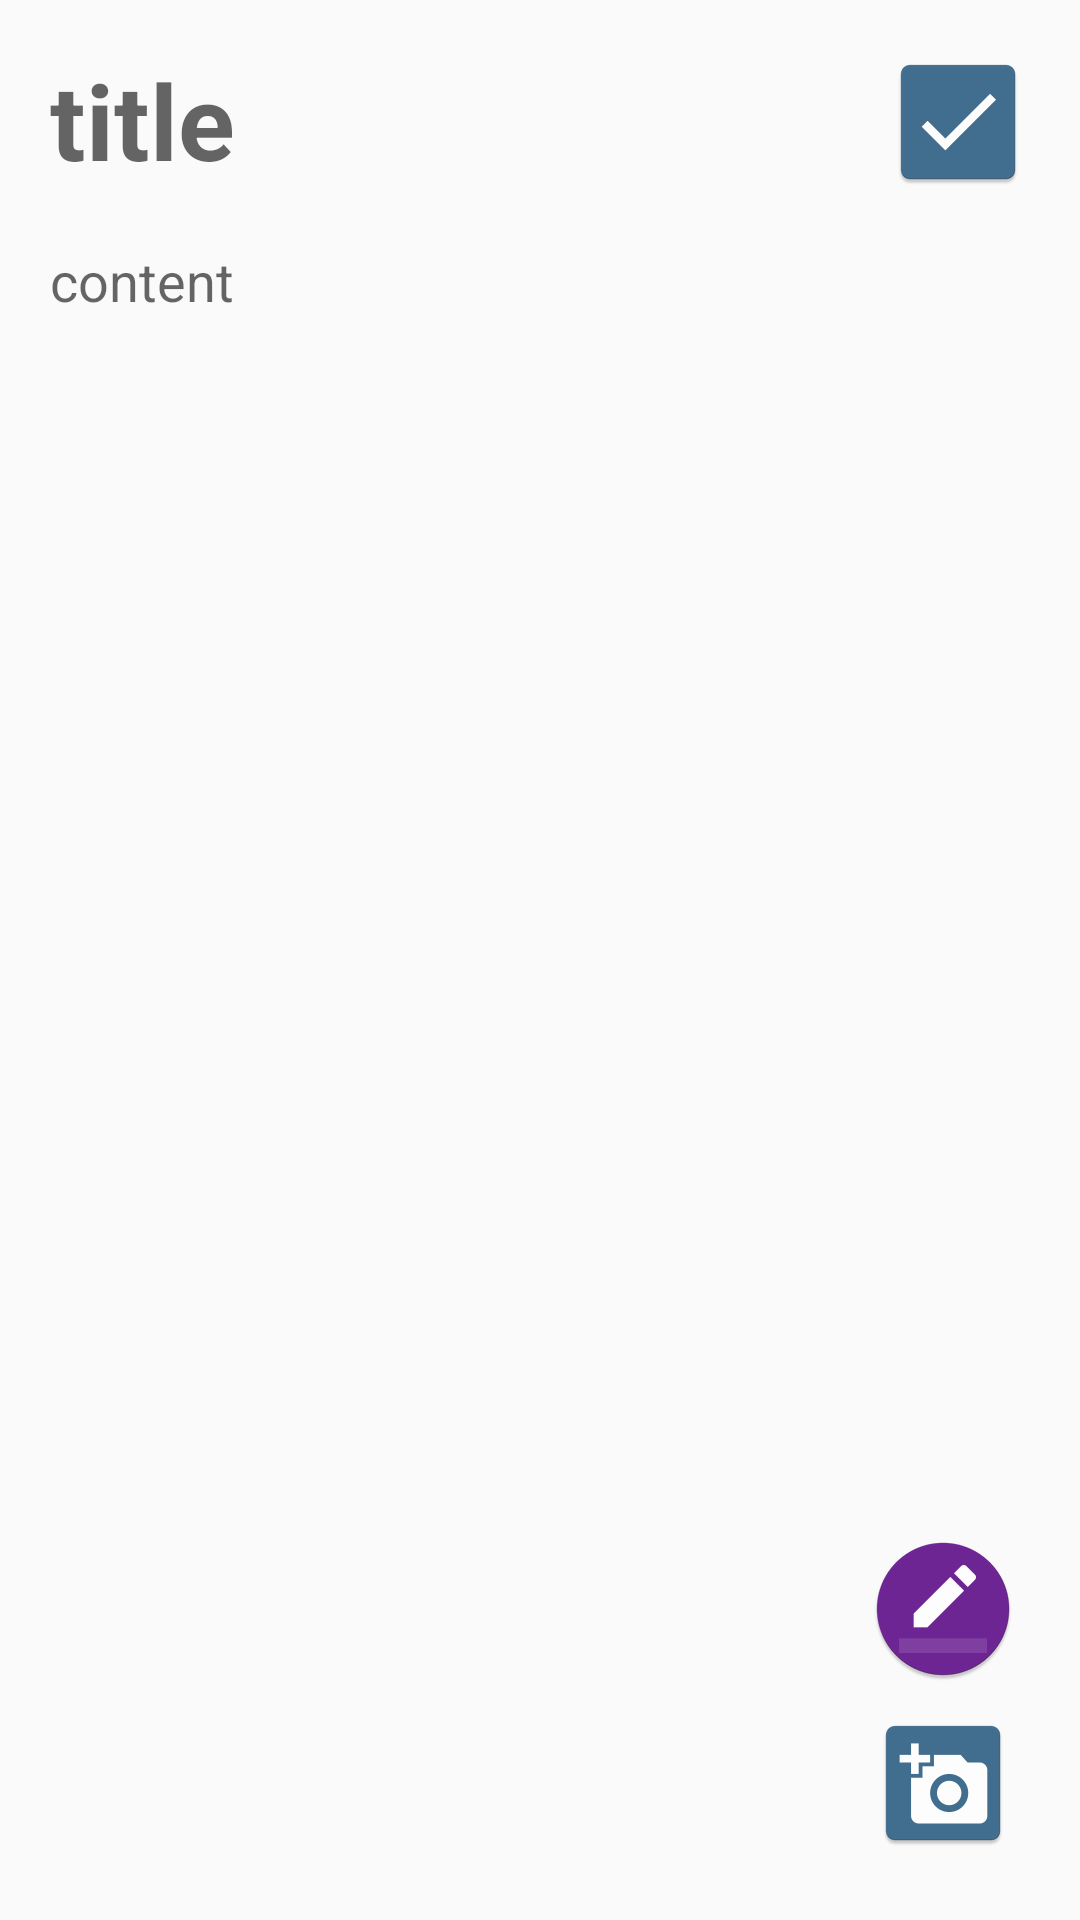

Named icons in this screenshot (1080px×1920px) and their bounding boxes, (x1, y1, x2, y2):
addphoto: (885, 1726, 1001, 1844)
draw: (876, 1542, 1010, 1678)
savenote: (900, 65, 1016, 183)
